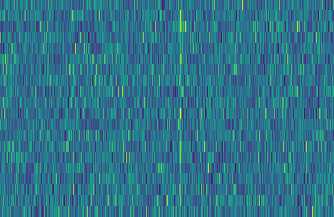signal: (175, 0, 184, 217)
